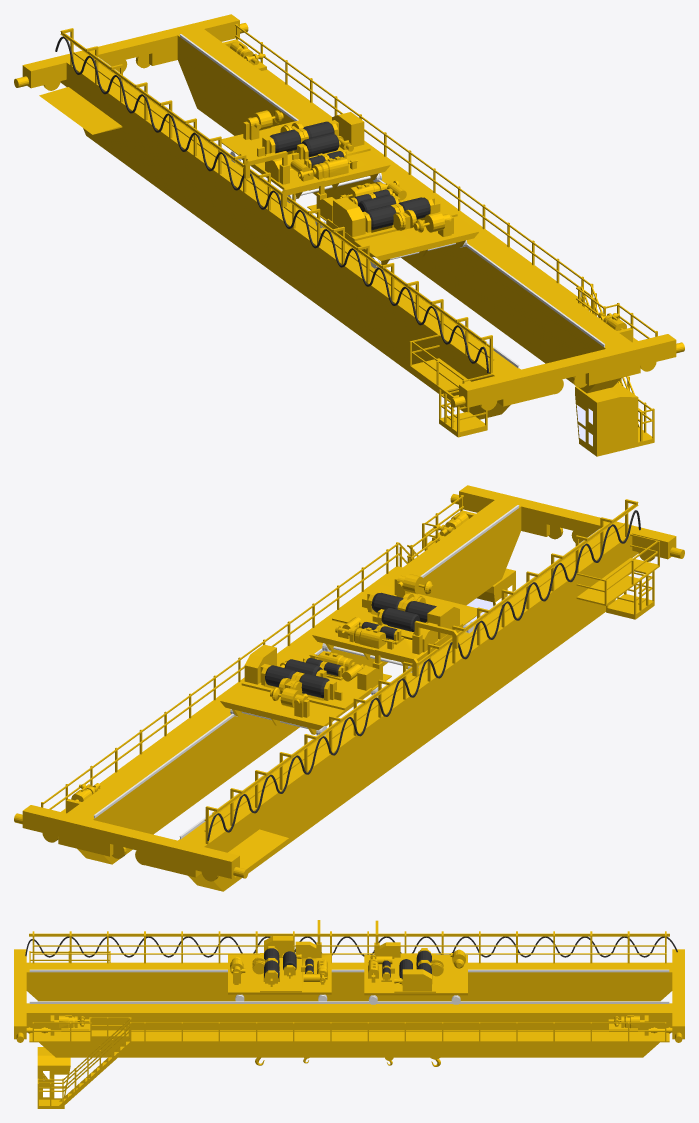
The picture shows the model from 3 angles, top to bottom: view 1: azimuth 30°, elevation 25°; view 2: azimuth 150°, elevation 25°; view 3: azimuth 270°, elevation 25°; orthographic projection. The views are drawn at different scales.
Parts seen in each view (by area): view 1: 3_Bay_C_800_Body, 3_Bay_C_800_Head_01, 3_Bay_C_800_Head_02; view 2: 3_Bay_C_800_Body, 3_Bay_C_800_Head_01, 3_Bay_C_800_Head_02; view 3: 3_Bay_C_800_Body, 3_Bay_C_800_Head_02, 3_Bay_C_800_Head_01.
Boxes of the visible parts, x1=… form: 3_Bay_C_800_Body: x1=14, y1=14, x2=684, y2=456; 3_Bay_C_800_Head_01: x1=221, y1=110, x2=390, y2=202; 3_Bay_C_800_Head_02: x1=281, y1=179, x2=478, y2=268; 3_Bay_C_800_Body: x1=14, y1=485, x2=684, y2=891; 3_Bay_C_800_Head_01: x1=220, y1=644, x2=418, y2=736; 3_Bay_C_800_Head_02: x1=312, y1=574, x2=482, y2=672; 3_Bay_C_800_Body: x1=14, y1=931, x2=684, y2=1108; 3_Bay_C_800_Head_02: x1=228, y1=920, x2=331, y2=1065; 3_Bay_C_800_Head_01: x1=364, y1=920, x2=467, y2=1066.
Size of the model in its own units: 11.1 by 7.45 by 37.25.
